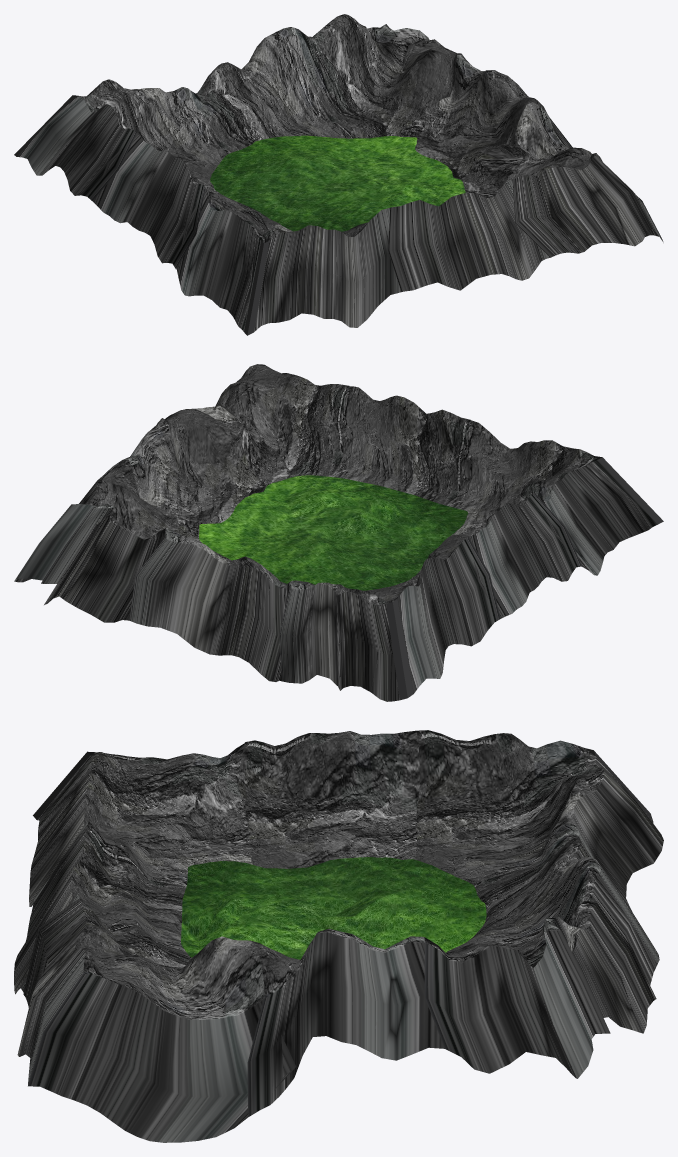
File: mapp.glb
The picture shows the model from 3 angles, top to bottom: view 1: azimuth 30°, elevation 25°; view 2: azimuth 150°, elevation 25°; view 3: azimuth 270°, elevation 25°; orthographic projection. The views are drawn at different scales.
Visible parts, largest first — view 1: Plane.009, Plane; view 2: Plane.009, Plane; view 3: Plane.009, Plane.
Part boxes in pixels (bbox=[...]): Plane.009: bbox=[14, 14, 663, 335]; Plane: bbox=[210, 135, 465, 231]; Plane.009: bbox=[14, 364, 663, 701]; Plane: bbox=[199, 475, 468, 590]; Plane.009: bbox=[14, 730, 663, 1142]; Plane: bbox=[181, 857, 486, 959].
Bounding box in the file's own units: 46.81 × 13.36 × 46.69.
Materials: 2 (2 with a texture image).
